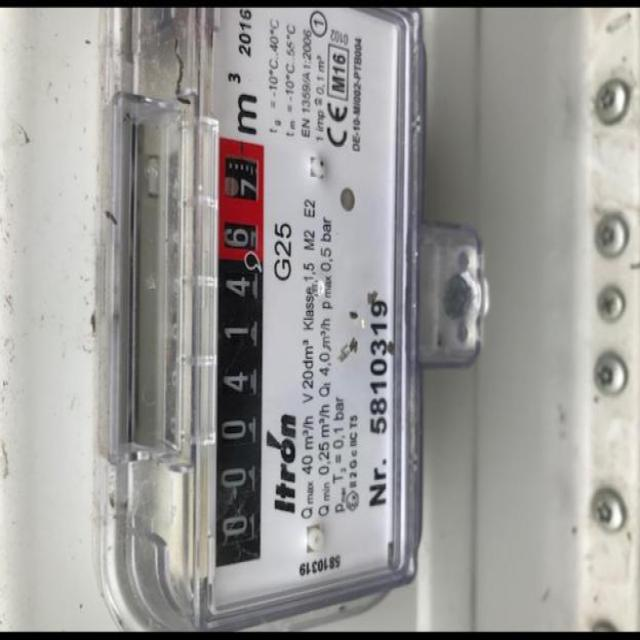gaz_meter: (197, 2, 416, 612)
indication: (215, 135, 265, 569)
